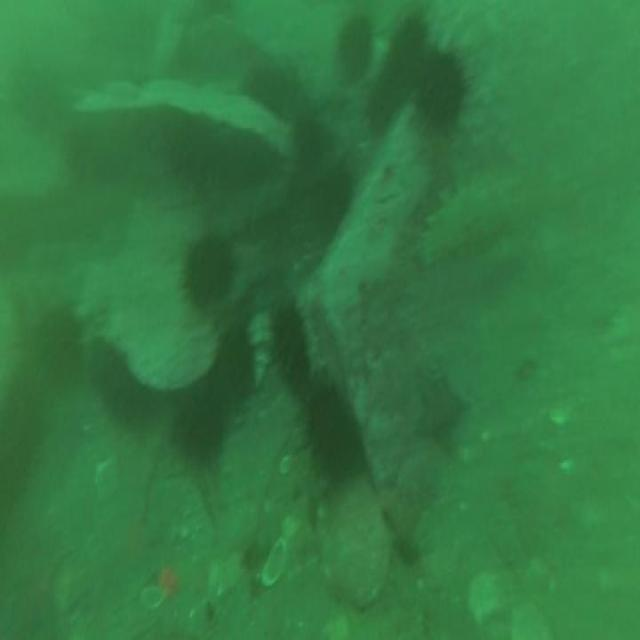holothurian: (417, 169, 525, 270), (306, 395, 360, 477), (92, 345, 150, 417), (172, 396, 222, 459), (268, 305, 308, 382), (181, 238, 232, 298), (214, 332, 254, 404), (423, 54, 464, 123), (393, 8, 429, 79), (308, 177, 348, 237), (242, 68, 284, 123), (337, 20, 368, 87), (366, 71, 398, 127), (292, 114, 326, 166)
scallop: (321, 485, 389, 605)
starfish: (418, 366, 468, 451)
